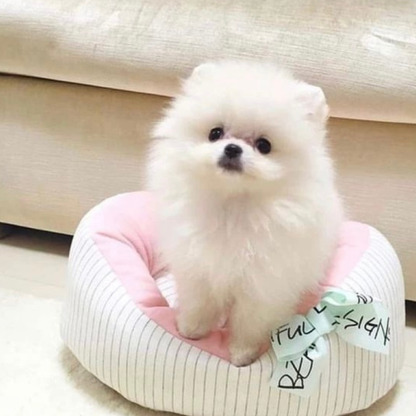Pomeranian: (130, 46, 359, 374)
